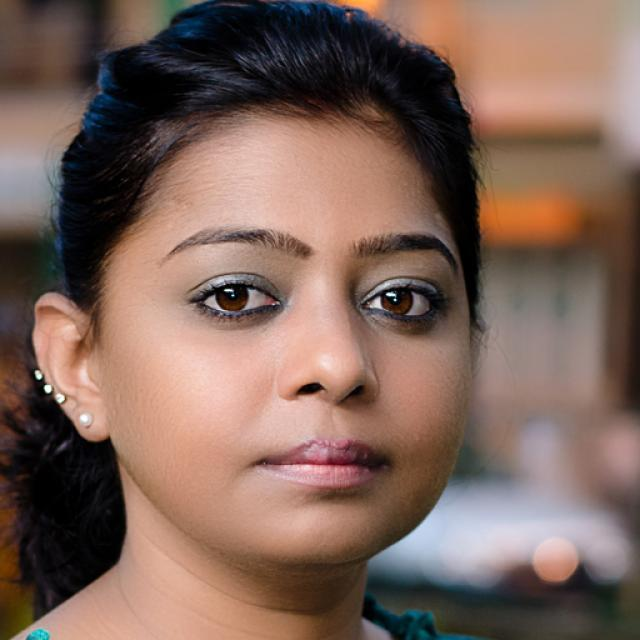neutral: (110, 106, 470, 570)
